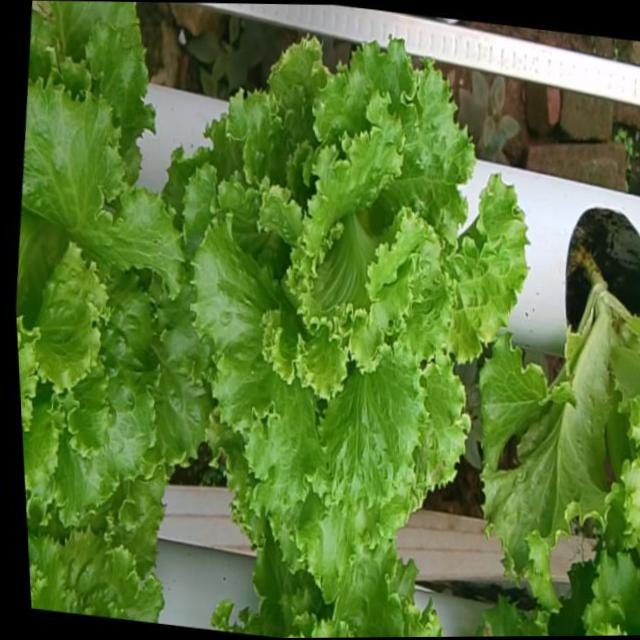Mature: (192, 19, 535, 564), (16, 53, 217, 512)
